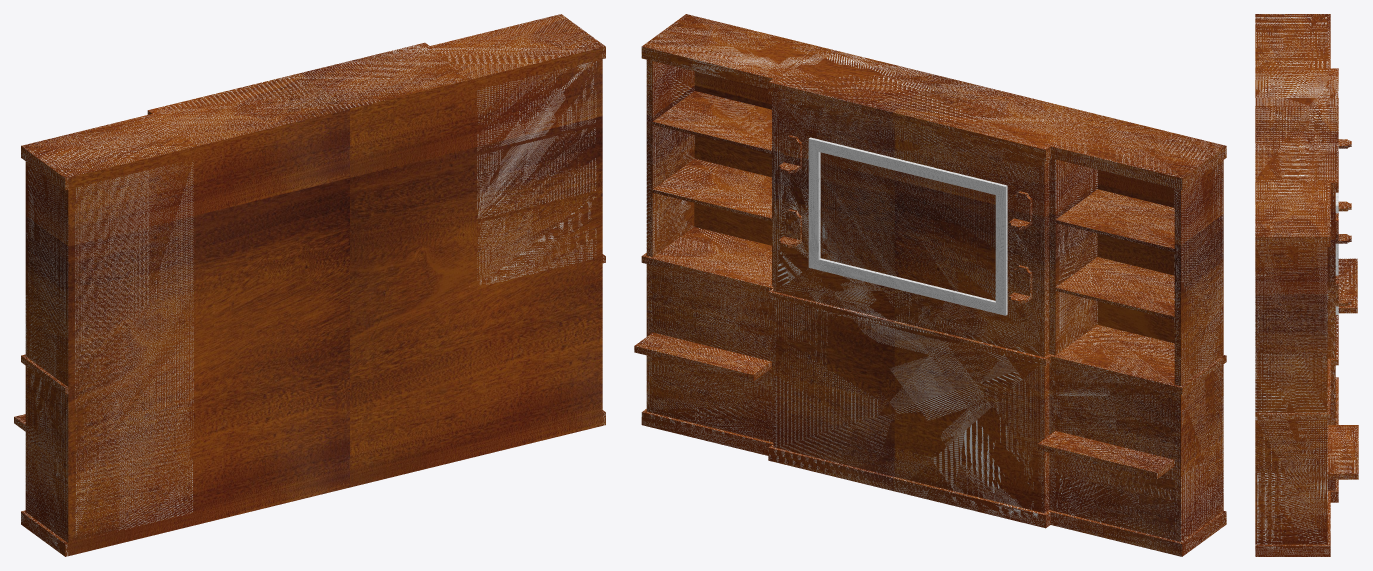
3 views of the same model, side by side, from view 1: azimuth 30°, elevation 25°; view 2: azimuth 150°, elevation 25°; view 3: azimuth 270°, elevation 25° (orthographic). The views are drawn at different scales.
Parts seen in each view (by area): view 1: mesh1_mesh1-geometry; view 2: mesh1_mesh1-geometry; view 3: mesh1_mesh1-geometry, mesh2_mesh2-geometry.
Boxes of the visible parts, <box> form: mesh1_mesh1-geometry: <box>14,14,605,556</box>; mesh1_mesh1-geometry: <box>634,14,1226,556</box>; mesh1_mesh1-geometry: <box>1255,14,1358,556</box>; mesh2_mesh2-geometry: <box>1335,275,1351,306</box>.
Bounding box in the file's own units: 0.8203 × 0.5489 × 0.1606.
